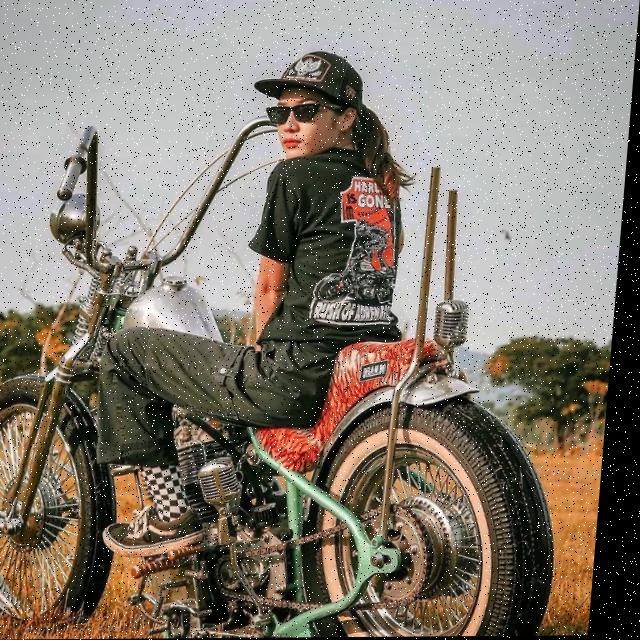illegal_helmet: (247, 46, 369, 162)
